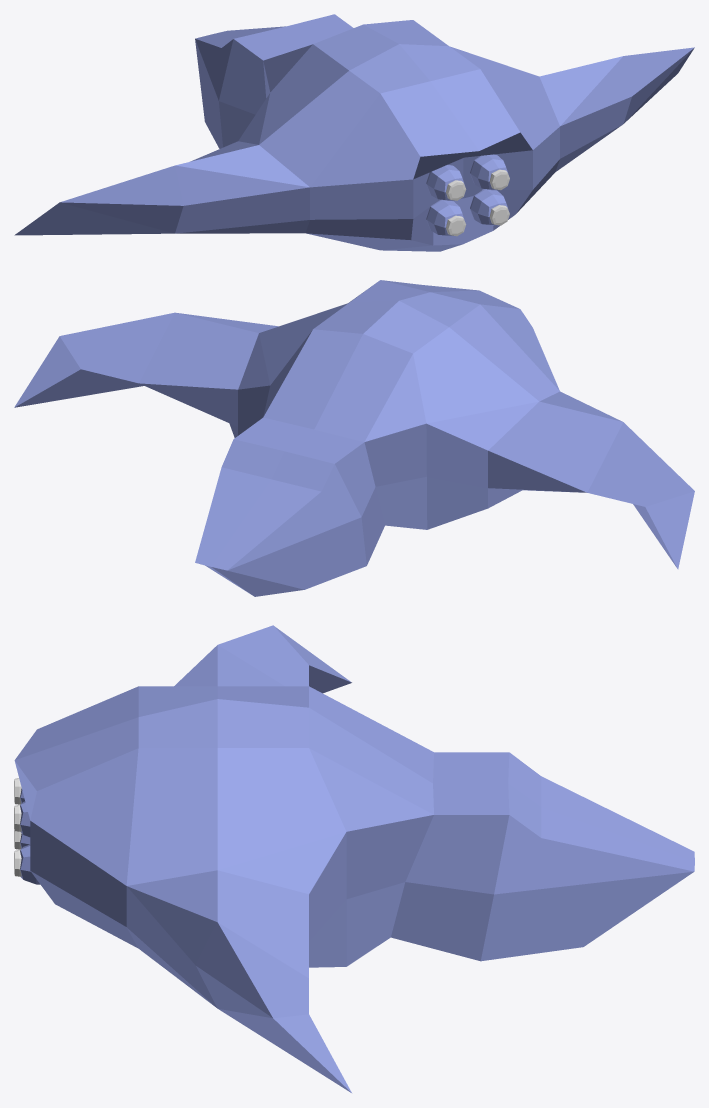
Rendered from spaceship.glb.
3 renders of one model, top to bottom at view 1: azimuth 30°, elevation 25°; view 2: azimuth 150°, elevation 25°; view 3: azimuth 270°, elevation 25°, orthographic. The views are drawn at different scales.
Visible parts, largest first — view 1: Cube, Cube.001; view 2: Cube; view 3: Cube.
Part boxes in pixels (x1,y1,x2,y2): Cube: (14, 14, 694, 251); Cube.001: (446, 169, 509, 236); Cube: (14, 280, 694, 596); Cube: (14, 625, 694, 1092).
Size of the model in its own units: 13.28 by 3.64 by 9.3.
